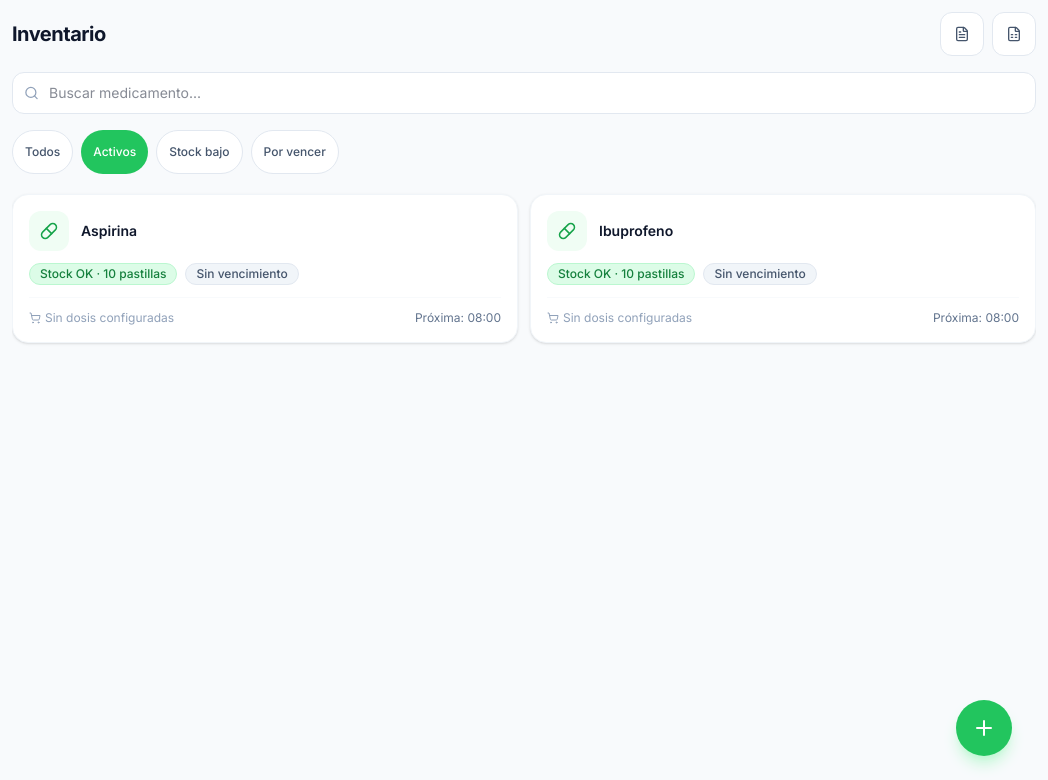
Test case: Inventario › filters medications by search term
The width and height of the screenshot is (1048, 780).
Type "Asp" into the search field with placeholder "Buscar medicamento..." at (524, 93), box left=12, top=72, right=1036, bottom=114
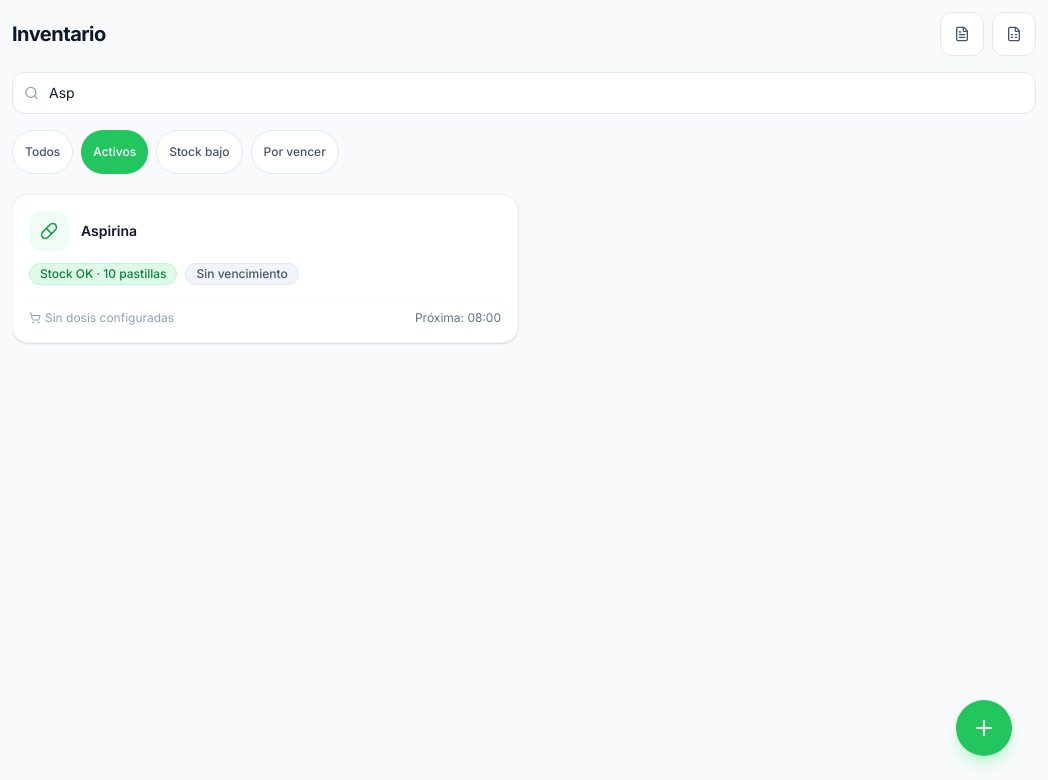
Expected: the heading "Aspirina" is shown, left=81, top=221, right=137, bottom=241
Expected: the heading "Ibuprofeno" is gone
